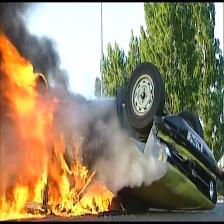fire: (0, 28, 126, 218)
smoke: (83, 91, 178, 208), (0, 0, 83, 90)
